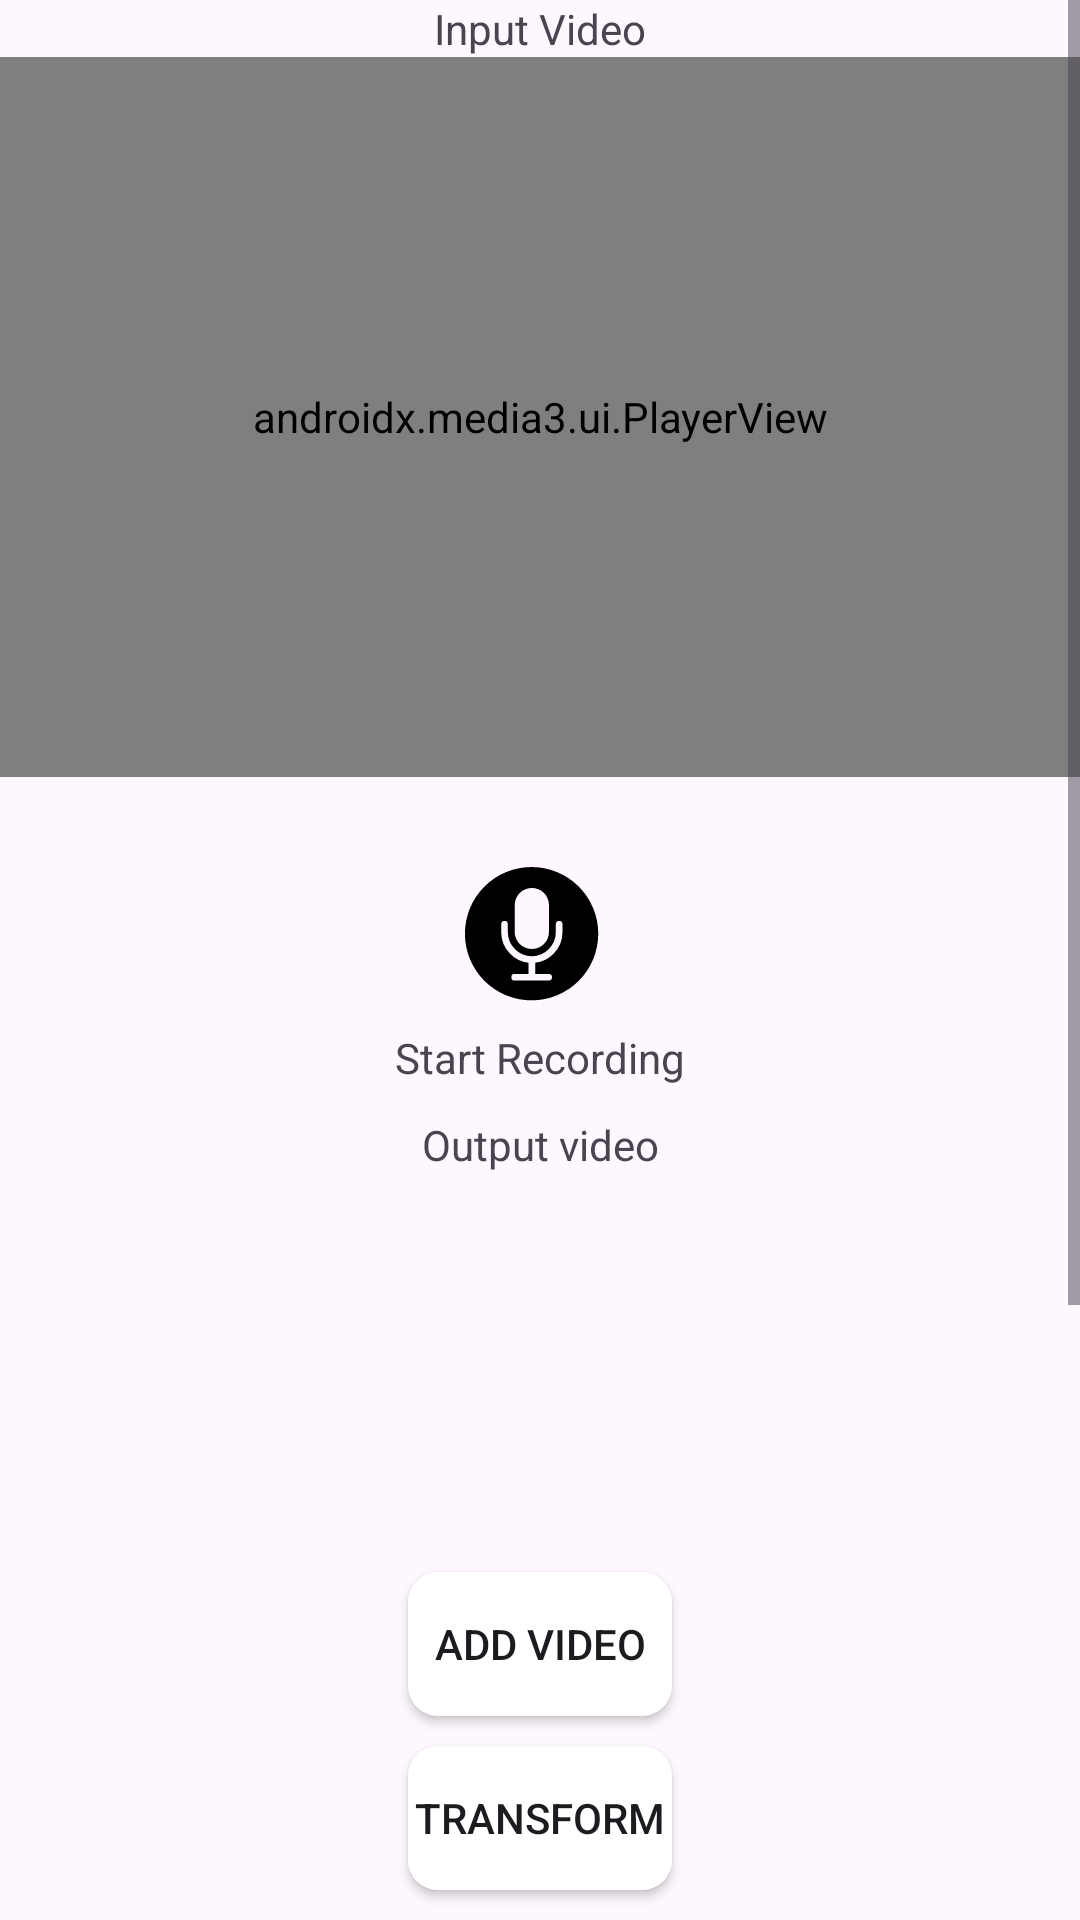

Locate icon controls on the screen. Image size 1080w x 1920h, boxes as region(x1, y1, x2, y2).
Record Voice-over: region(465, 867, 599, 1001)
